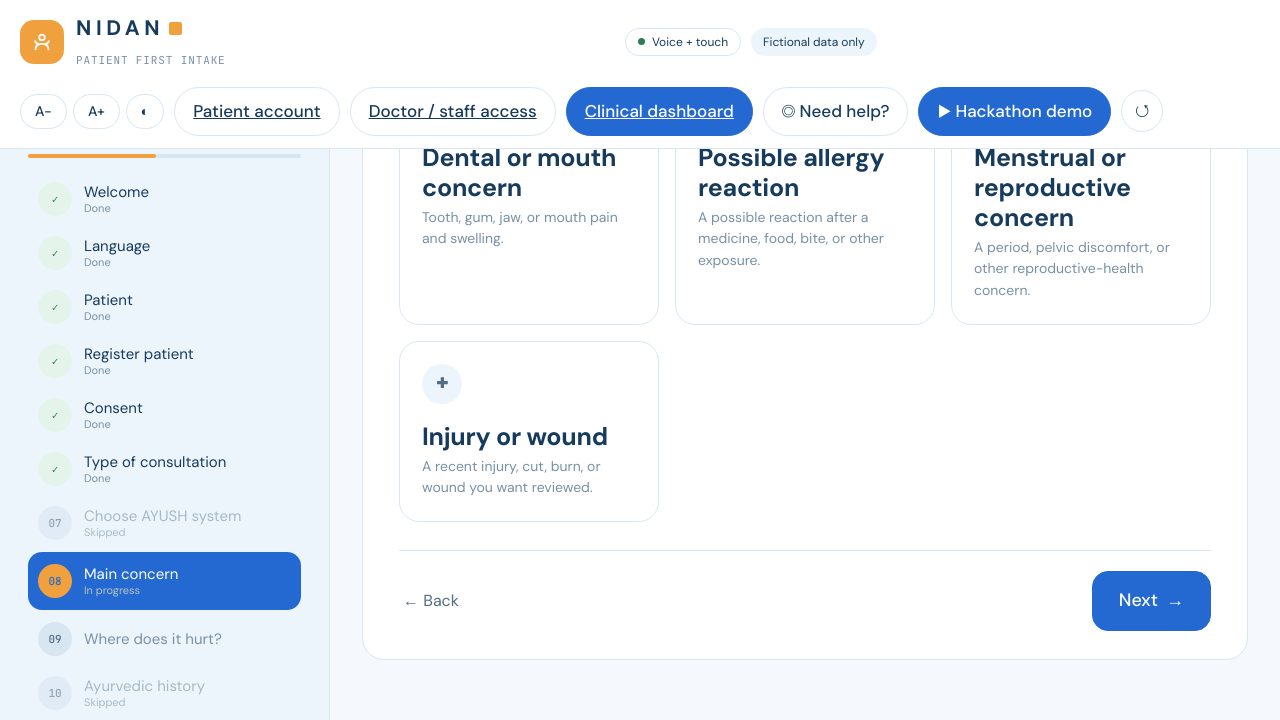
Test: returning patient: “how are you feeling now?”, only what changed › Next is blocked until they say how they feel
(page scrolled)
Step 1. Click the button "Next →" → (1151, 601), box [1092, 571, 1211, 631]
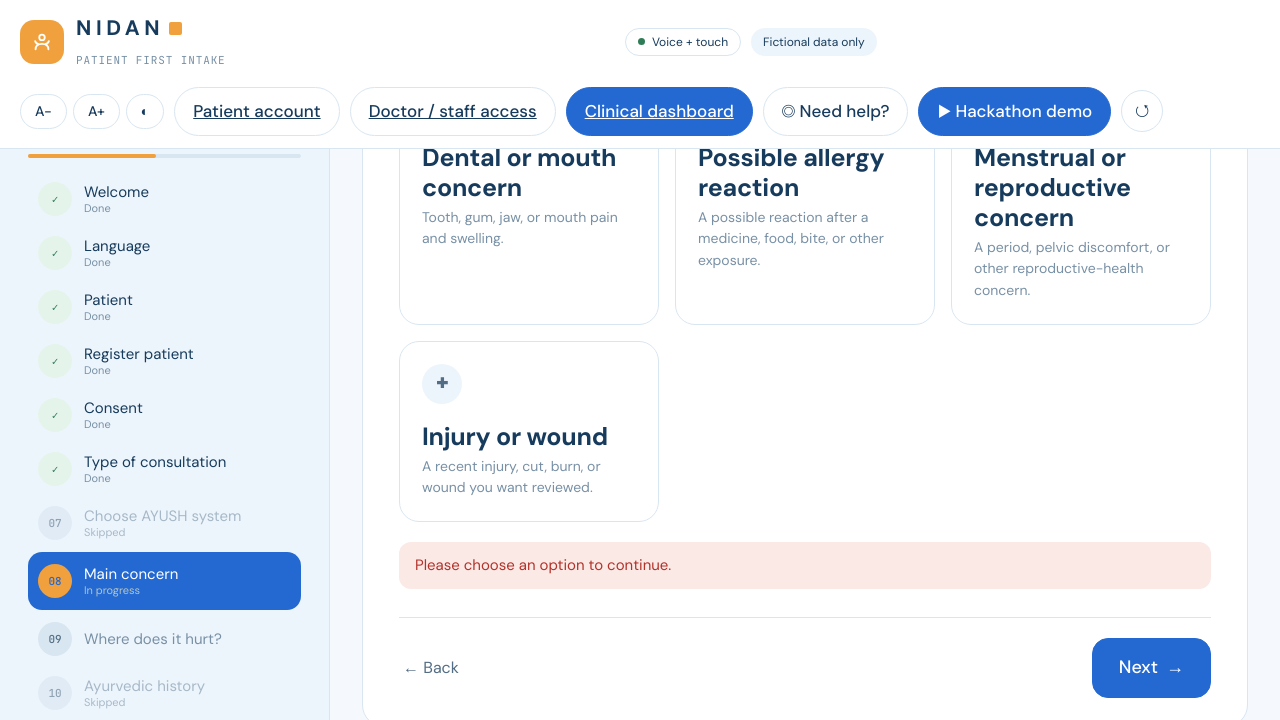
Result: the text "Please choose an option to continue." is shown at [399, 542, 1211, 590]
